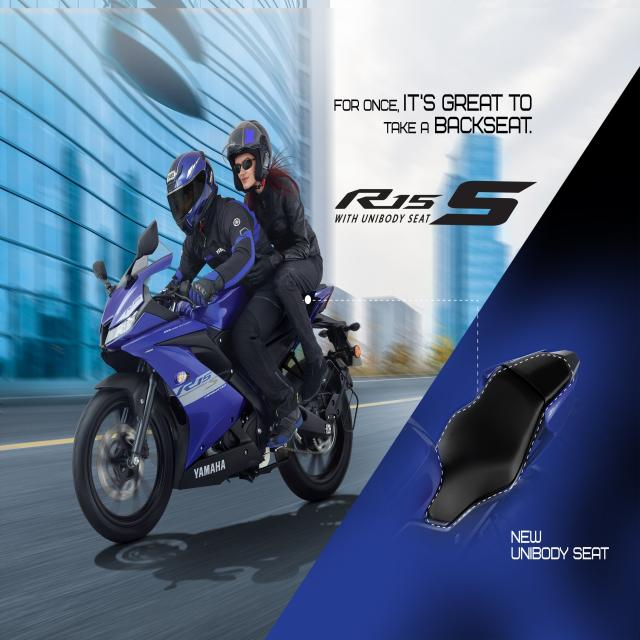Bike: (66, 227, 364, 537)
